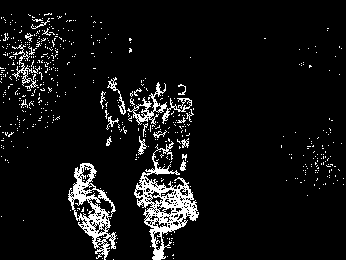person: (62, 157, 125, 260), (143, 150, 198, 260), (175, 78, 199, 170), (98, 72, 127, 147), (135, 74, 153, 161), (156, 76, 171, 148)
